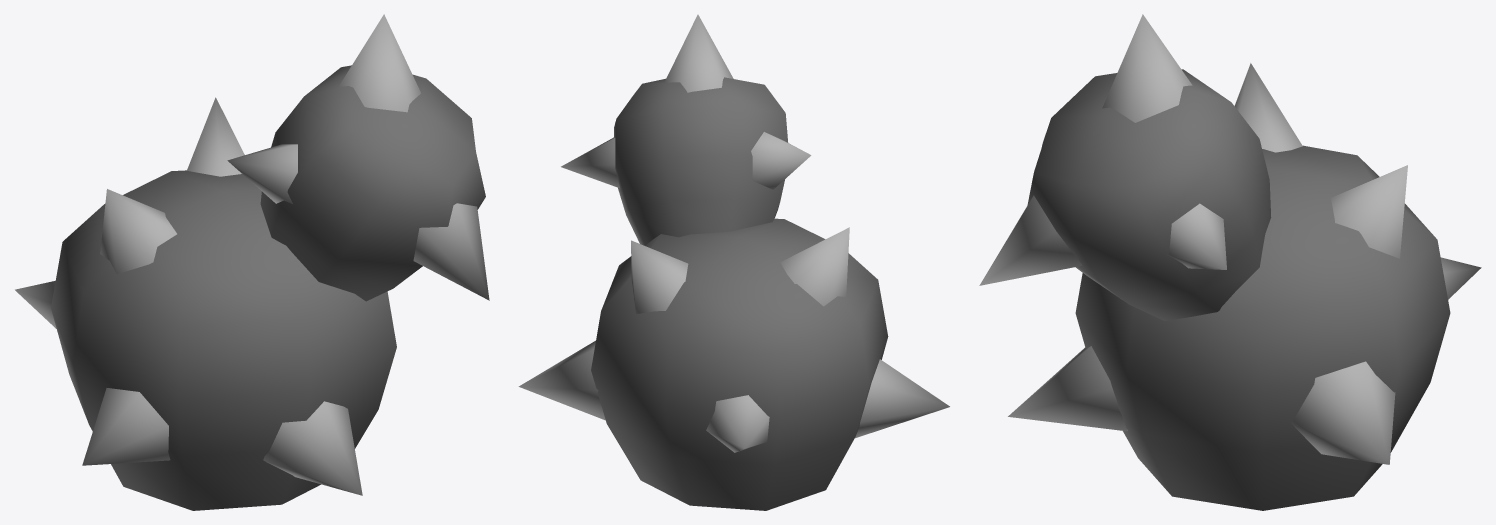
File: Cactus_3.fbx
The picture shows the model from 3 angles, left to right: view 1: azimuth 30°, elevation 25°; view 2: azimuth 150°, elevation 25°; view 3: azimuth 270°, elevation 25°; orthographic projection. The views are drawn at different scales.
Visible parts, largest first — view 1: Cactus_3; view 2: Cactus_3; view 3: Cactus_3.
Boxes of the visible parts, x1,y1,x2,y2 form: Cactus_3: [15, 14, 489, 510]; Cactus_3: [518, 14, 949, 510]; Cactus_3: [979, 14, 1481, 510].
Bounding box in the file's own units: 213 × 205 × 225.
